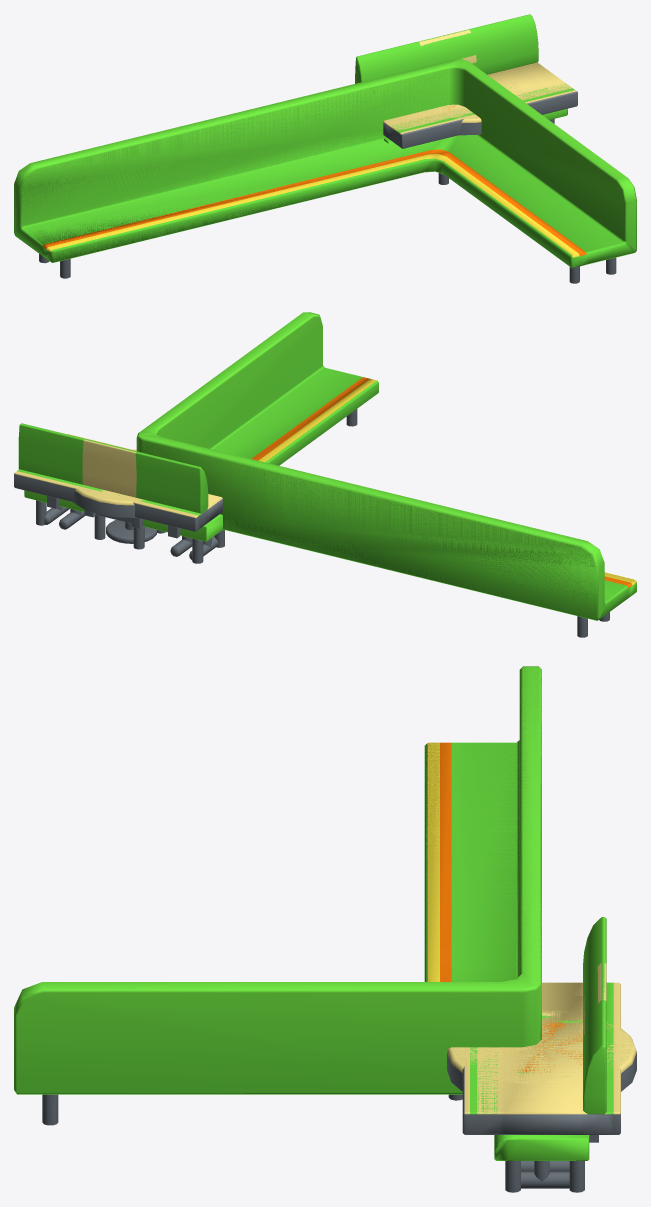
File: AllLv1.fbx
3 views of the same model, one above another, from view 1: azimuth 30°, elevation 25°; view 2: azimuth 150°, elevation 25°; view 3: azimuth 270°, elevation 25° (orthographic). The views are drawn at different scales.
Visible parts, largest first — view 1: Bench_Corner1Lv3, Bench_Corner3Lv3, Bench_Corner2Lv3, BenchLv1, Table_LongLv1, Table_ShortLv1, Table_RoundLv1, Table_LongLv2; view 2: Bench_Corner3Lv3, Bench_Corner2Lv3, Bench_Corner1Lv3, BenchLv1, Chair_BrownLv1, Table_LongLv1, Table_RoundLv1, Table_ShortLv1; view 3: Bench_Corner2Lv3, Bench_Corner3Lv3, Table_LongLv1, Bench_Corner1Lv3, BenchLv1, Table_ShortLv1, Table_RoundLv1, Table_LongLv2, Table_RoundLv3.
Part boxes in pixels (x1,y1,x2,y2): Bench_Corner1Lv3: (16, 61, 633, 264); Bench_Corner3Lv3: (14, 94, 352, 278); Bench_Corner2Lv3: (315, 59, 636, 283); BenchLv1: (355, 14, 567, 143); Table_LongLv1: (383, 62, 577, 148); Table_ShortLv1: (415, 67, 558, 143); Table_RoundLv1: (423, 79, 522, 135); Table_LongLv2: (388, 63, 573, 146); Bench_Corner3Lv3: (287, 469, 636, 637); Bench_Corner2Lv3: (136, 312, 378, 544); Bench_Corner1Lv3: (142, 368, 634, 620); BenchLv1: (18, 423, 224, 563); Chair_BrownLv1: (82, 439, 165, 549); Table_LongLv1: (14, 434, 222, 560); Table_RoundLv1: (73, 449, 157, 543); Table_ShortLv1: (33, 474, 192, 556); Bench_Corner2Lv3: (14, 878, 541, 1125); Bench_Corner3Lv3: (424, 666, 541, 965); Table_LongLv1: (462, 982, 620, 1188); Bench_Corner1Lv3: (424, 667, 541, 983); BenchLv1: (494, 917, 606, 1192); Table_ShortLv1: (463, 996, 620, 1171); Table_RoundLv1: (447, 1009, 636, 1091); Table_LongLv2: (470, 982, 613, 1134); Table_RoundLv3: (453, 1010, 631, 1084).
Bounding box in the file's own units: 718 × 128 × 472.
